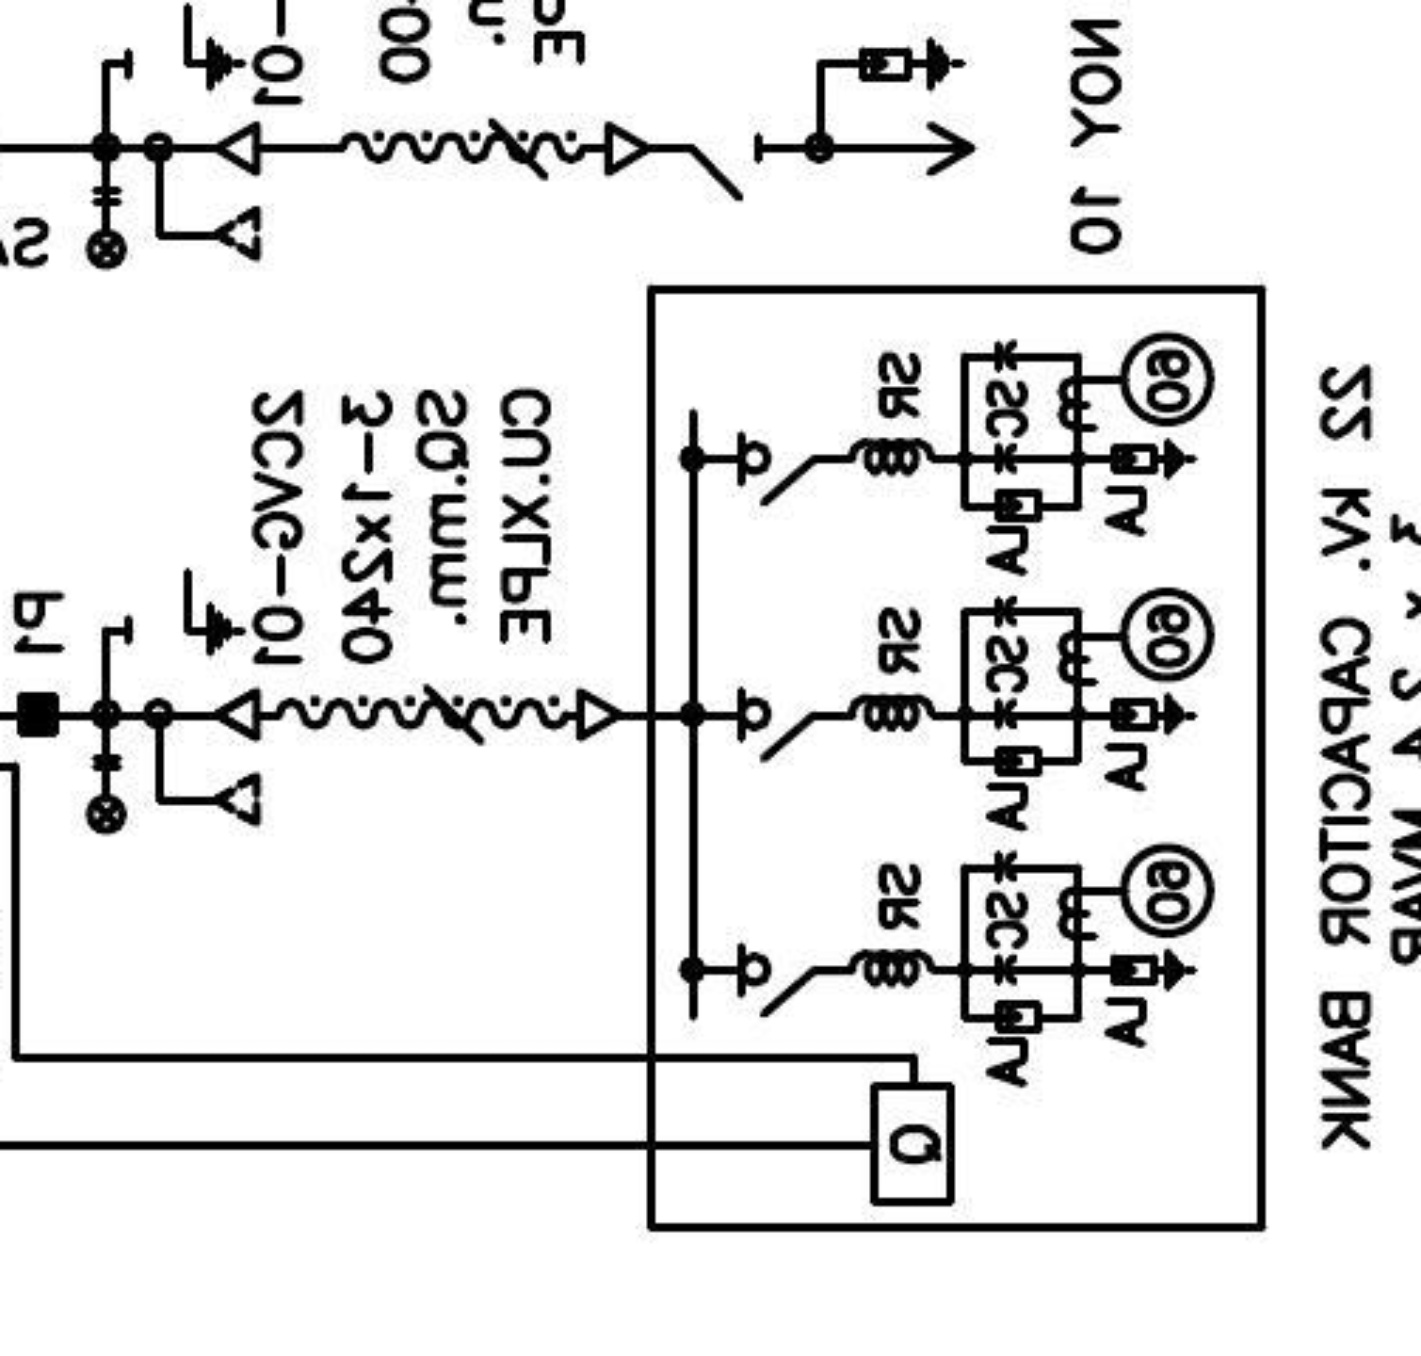22_cap_bank: (646, 283, 1269, 1233)
22_ds_la_out: (690, 37, 979, 205)
22_gs: (123, 566, 250, 661)
22_ll: (82, 185, 129, 271), (81, 751, 128, 837)
Q: (868, 1081, 958, 1209)
terminator_single: (603, 121, 652, 179), (573, 685, 623, 742)
terminator_w_future: (154, 119, 264, 265), (152, 685, 263, 831)
